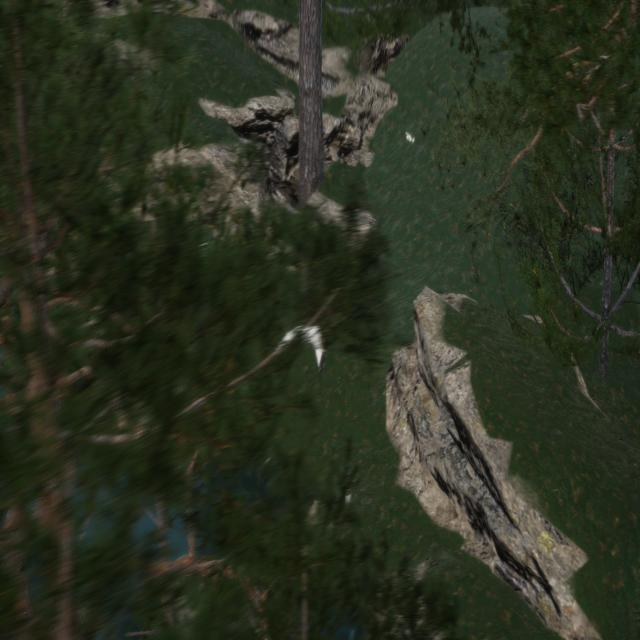Human: (280, 225, 332, 381)
